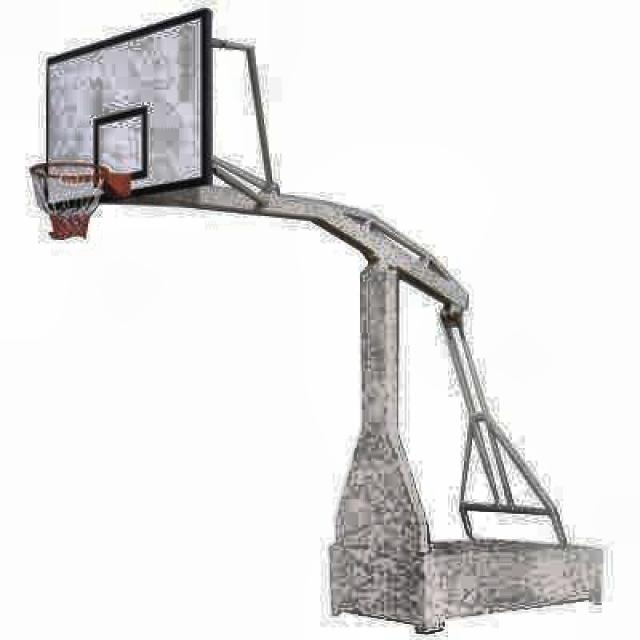rim: (30, 160, 112, 242)
